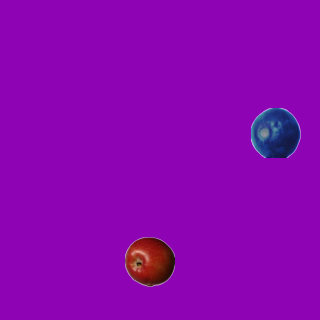Apple Braeburn: (124, 236, 174, 286)
Huckleberry: (250, 107, 300, 157)
